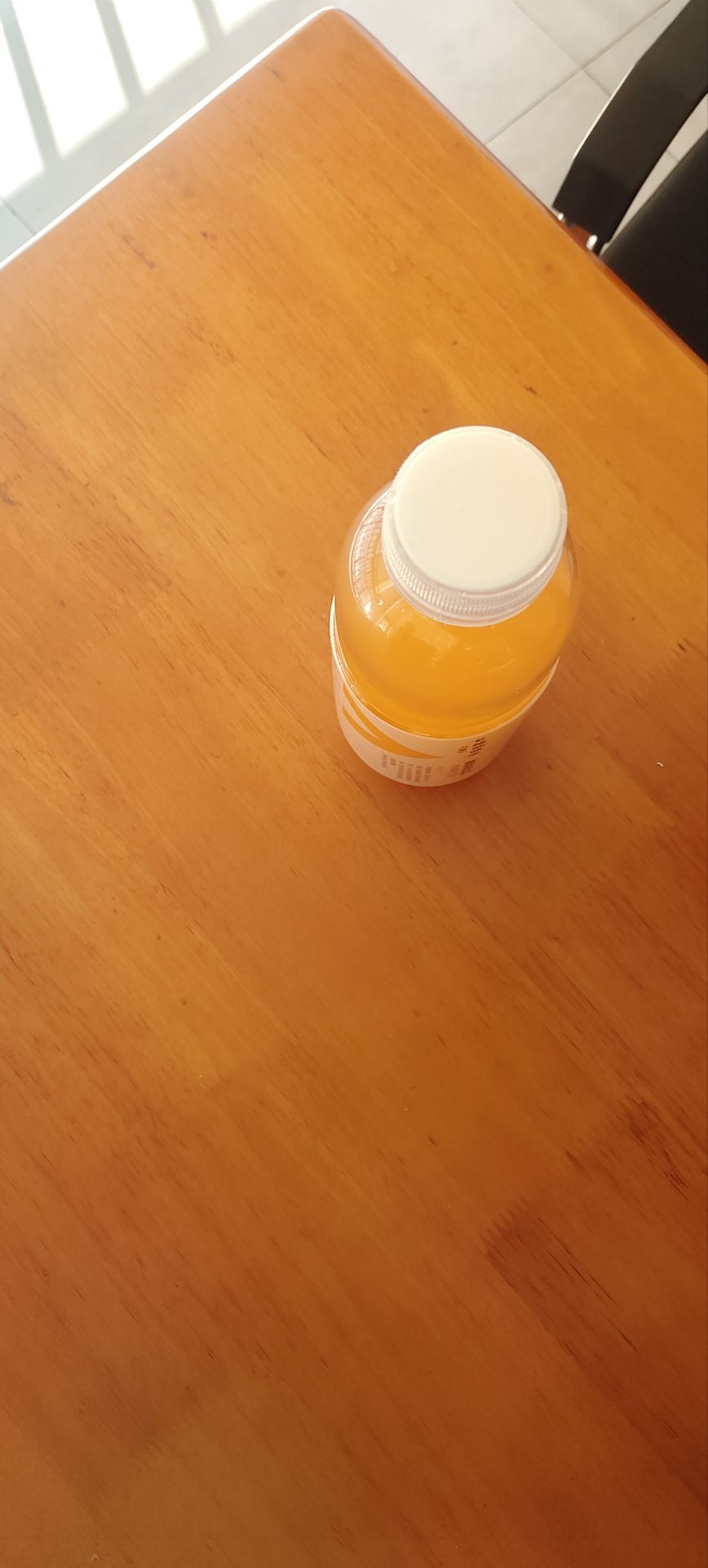redbull: (302, 420, 619, 806)
